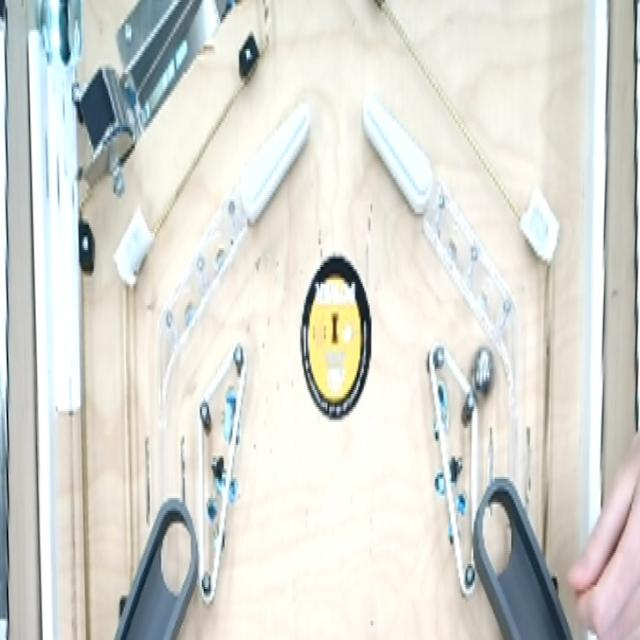ball: (468, 334, 502, 410)
flipper-left: (359, 90, 441, 224)
flipper-right: (236, 92, 314, 228)
